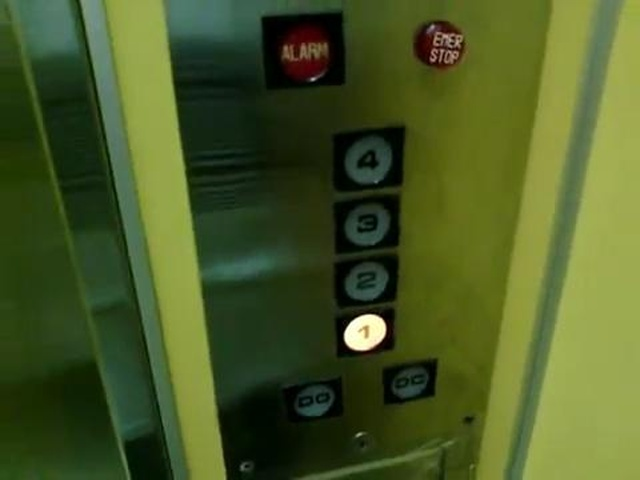1: (335, 307, 395, 358)
2: (334, 255, 398, 308)
3: (331, 195, 401, 256)
4: (331, 124, 405, 192)
DC: (382, 359, 438, 406)
DO: (279, 376, 344, 424)
keyhole: (351, 432, 377, 457)
text: (261, 10, 347, 91), (412, 19, 466, 70)
